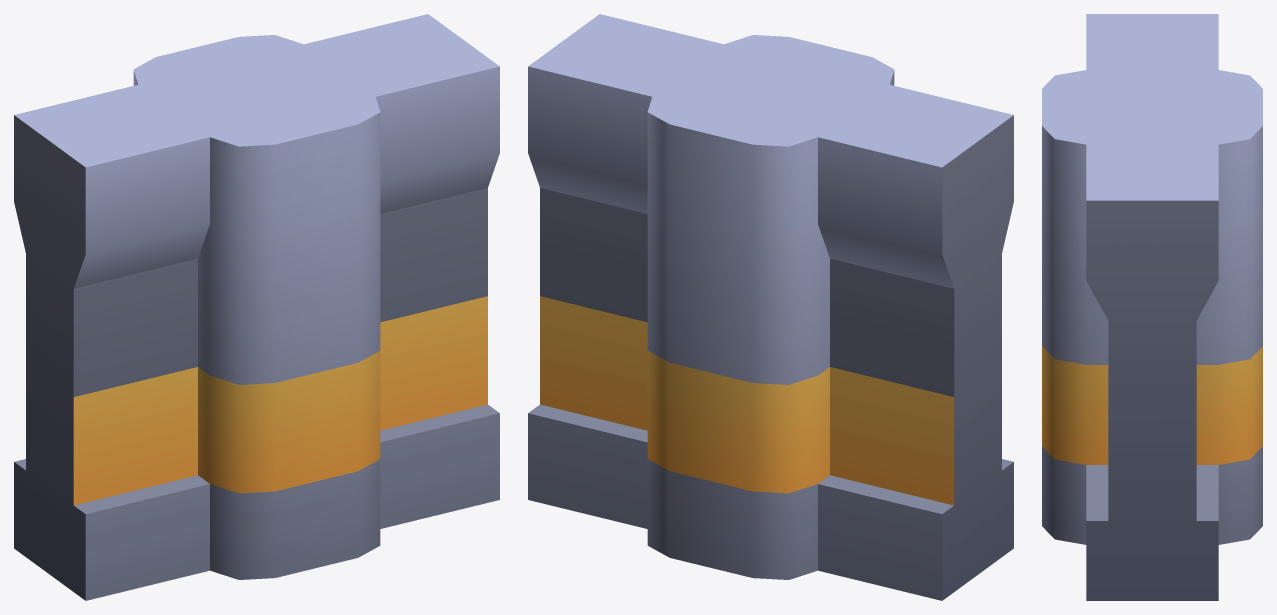
The model's file is kenney-space-station-wall-pillar-banner.glb.
3 renders of one model, left to right at view 1: azimuth 30°, elevation 25°; view 2: azimuth 150°, elevation 25°; view 3: azimuth 270°, elevation 25°, orthographic. The views are drawn at different scales.
Parts seen in each view (by area): view 1: wall-pillar-banner; view 2: wall-pillar-banner; view 3: wall-pillar-banner.
Boxes of the visible parts, x1,y1,x2,y2 form: wall-pillar-banner: [14, 14, 499, 600]; wall-pillar-banner: [528, 14, 1013, 600]; wall-pillar-banner: [1042, 14, 1262, 600].
Bounding box in the file's own units: 1 × 1 × 0.5001.
1 material, 1 textured.
